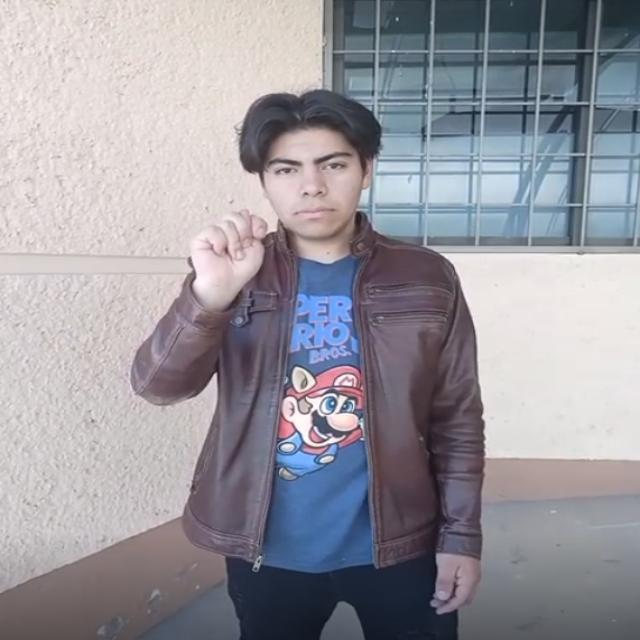T: (148, 195, 289, 313)
